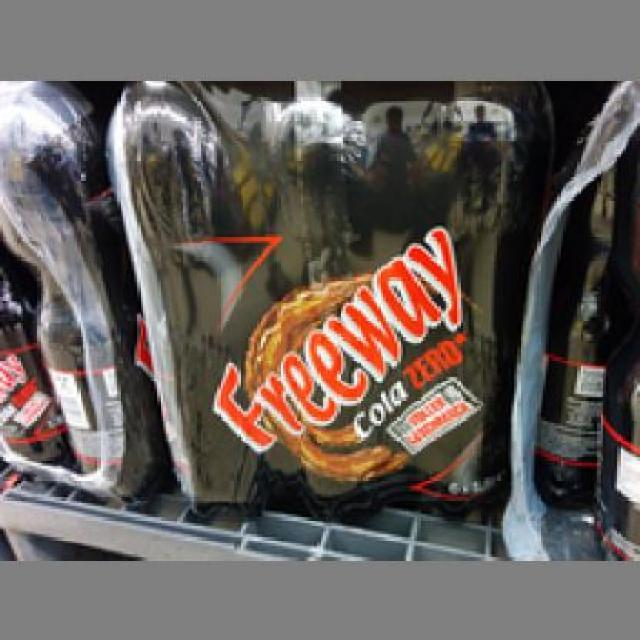Soda: (108, 80, 554, 517), (0, 77, 172, 503)
